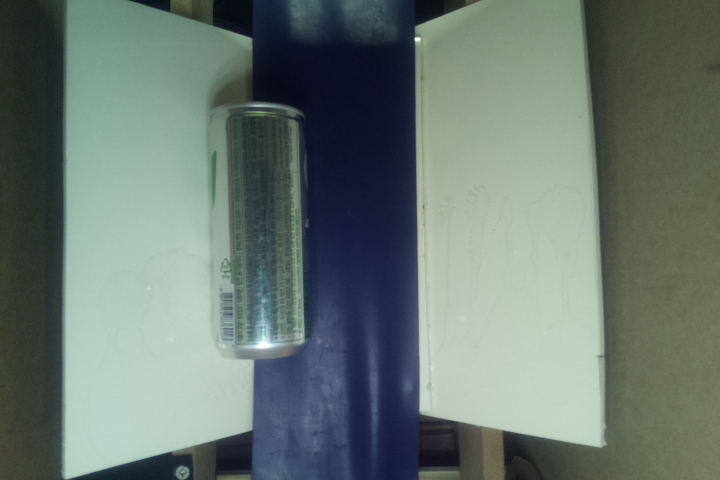can: (212, 101, 308, 357)
